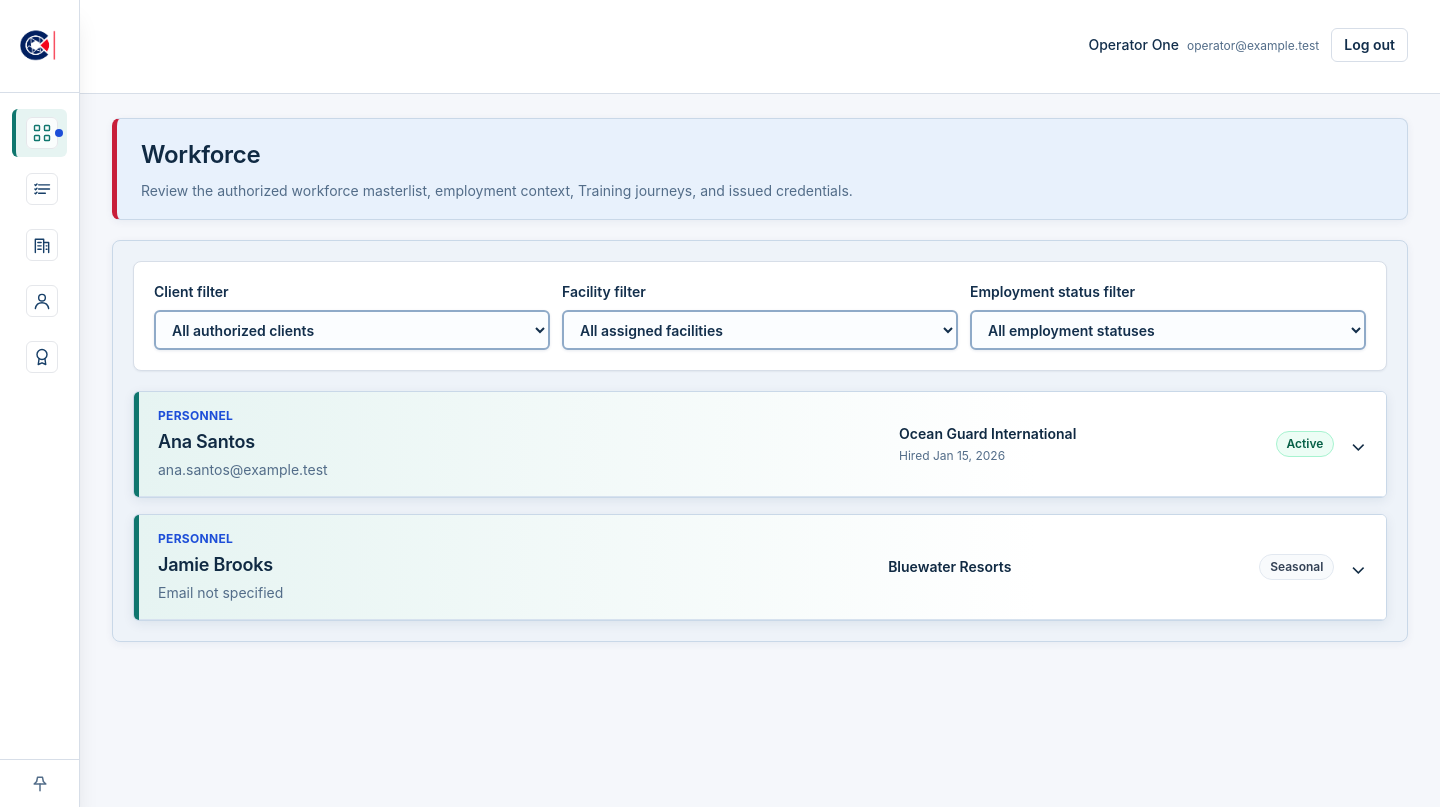
Test: Registration Personnel frontend › updates writable Personnel fields without sending client_id, user_id, or unsupported fields
Click the button "Ana Santos" at [196, 416], box [138,392,1386,497]
(page scrolled)
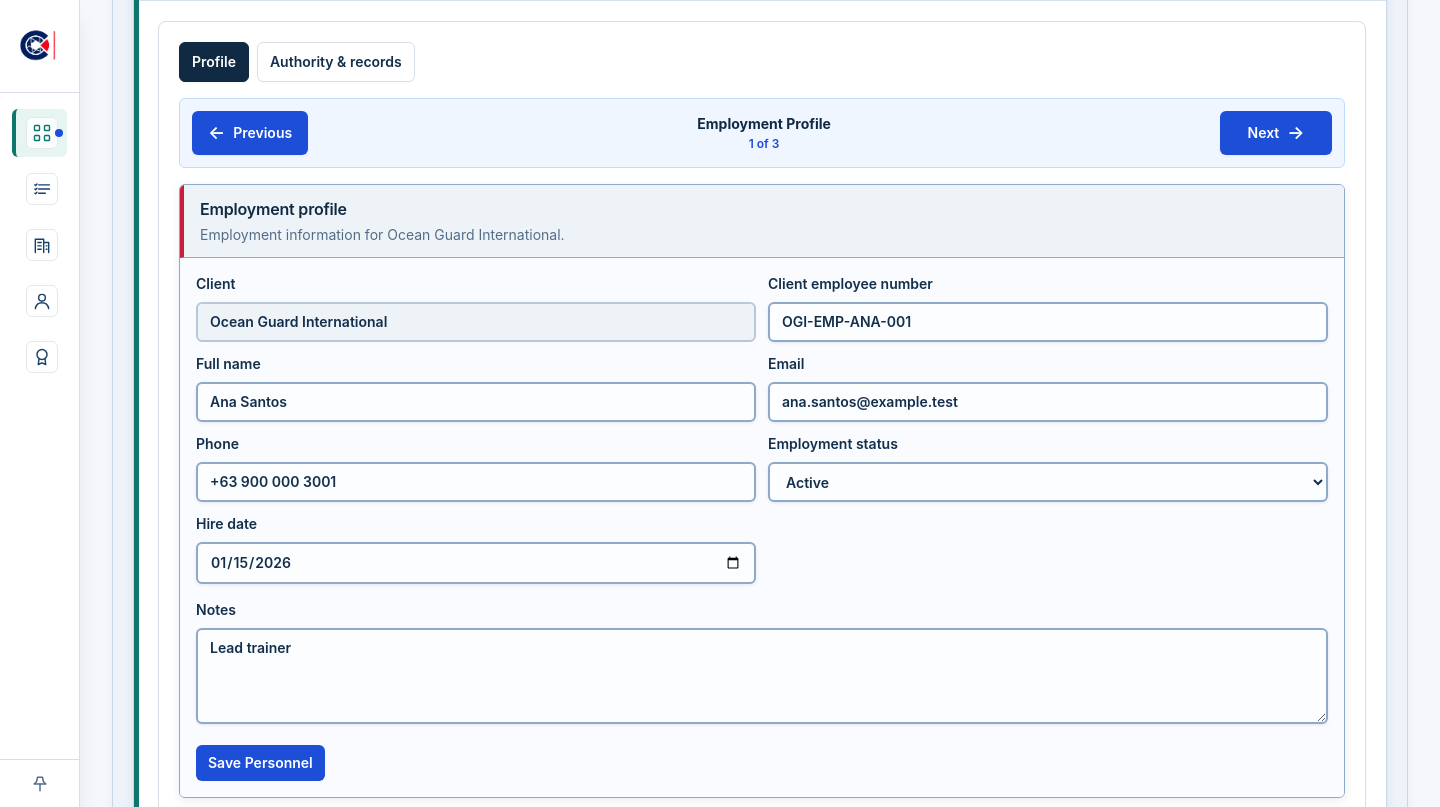
Replace the text in the field labelled "Full name" with "Ana Santos Updated" at [476, 402], box [196,382,756,422]
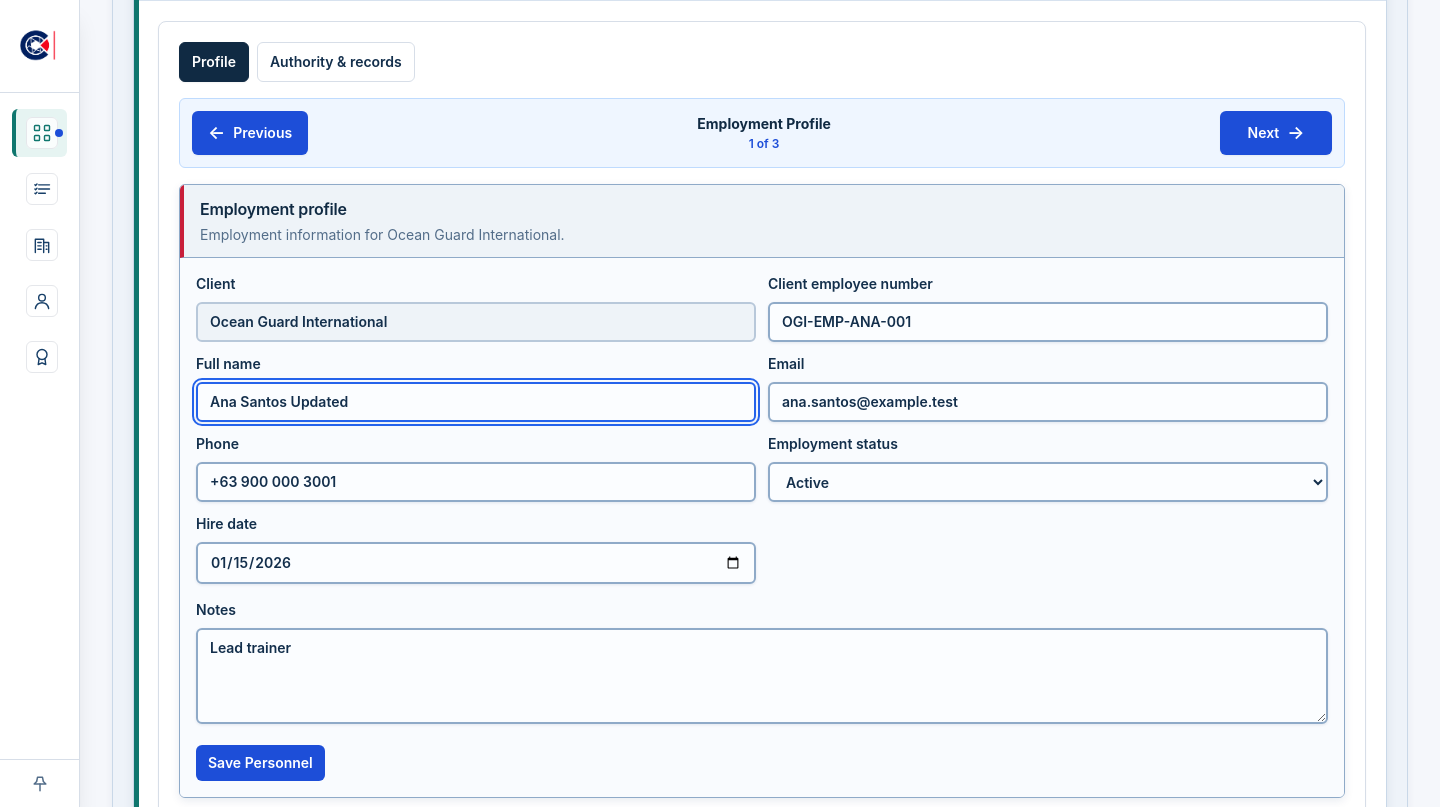
Select "Suspended" in the dropdown labelled "Employment status" at [1048, 482], box [768,462,1328,502]
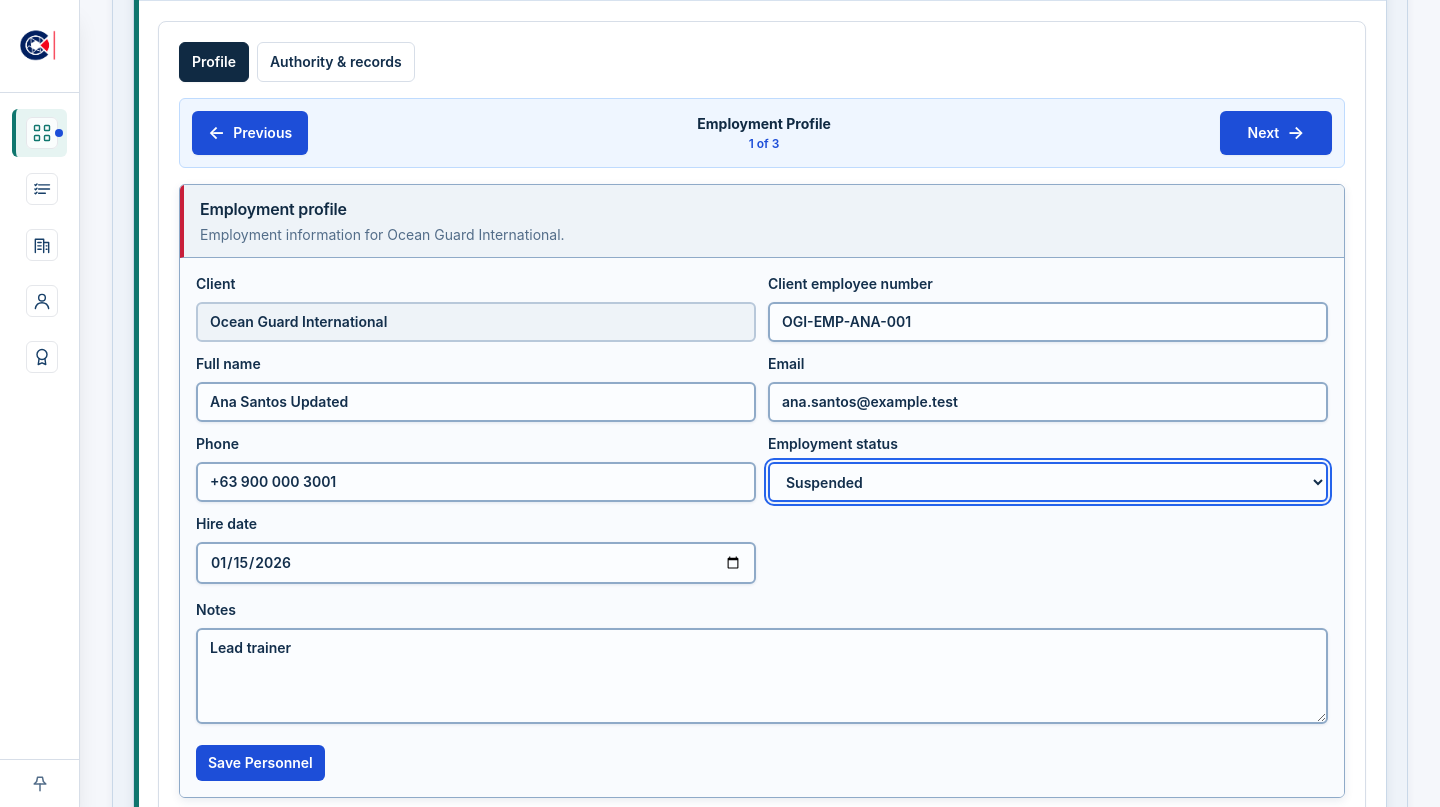
Replace the text in the text box labelled "Notes" with "Temporary suspension" at [762, 676], box [196,628,1328,724]
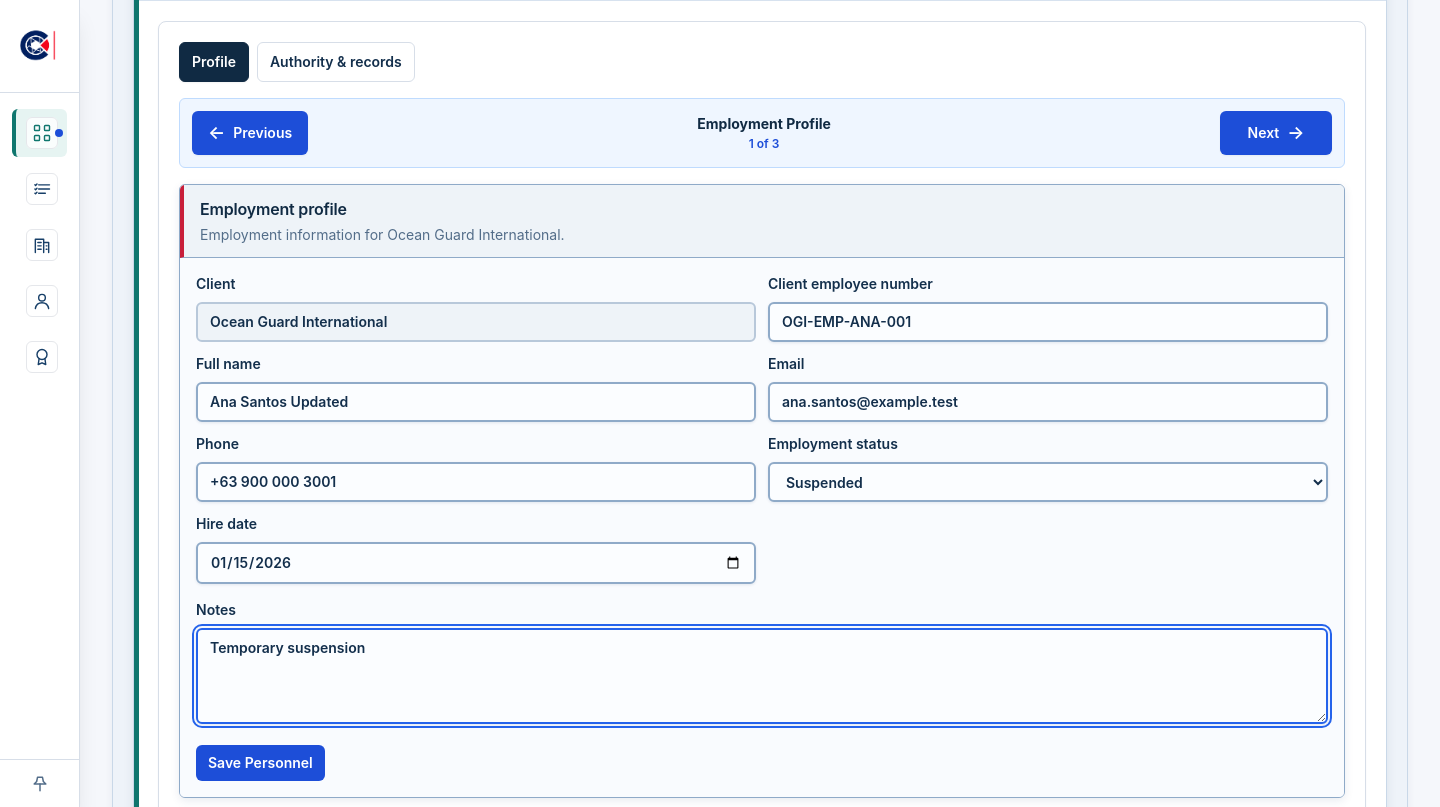
Click the button "Save Personnel" at [260, 763], box [196,745,325,781]
(page scrolled)
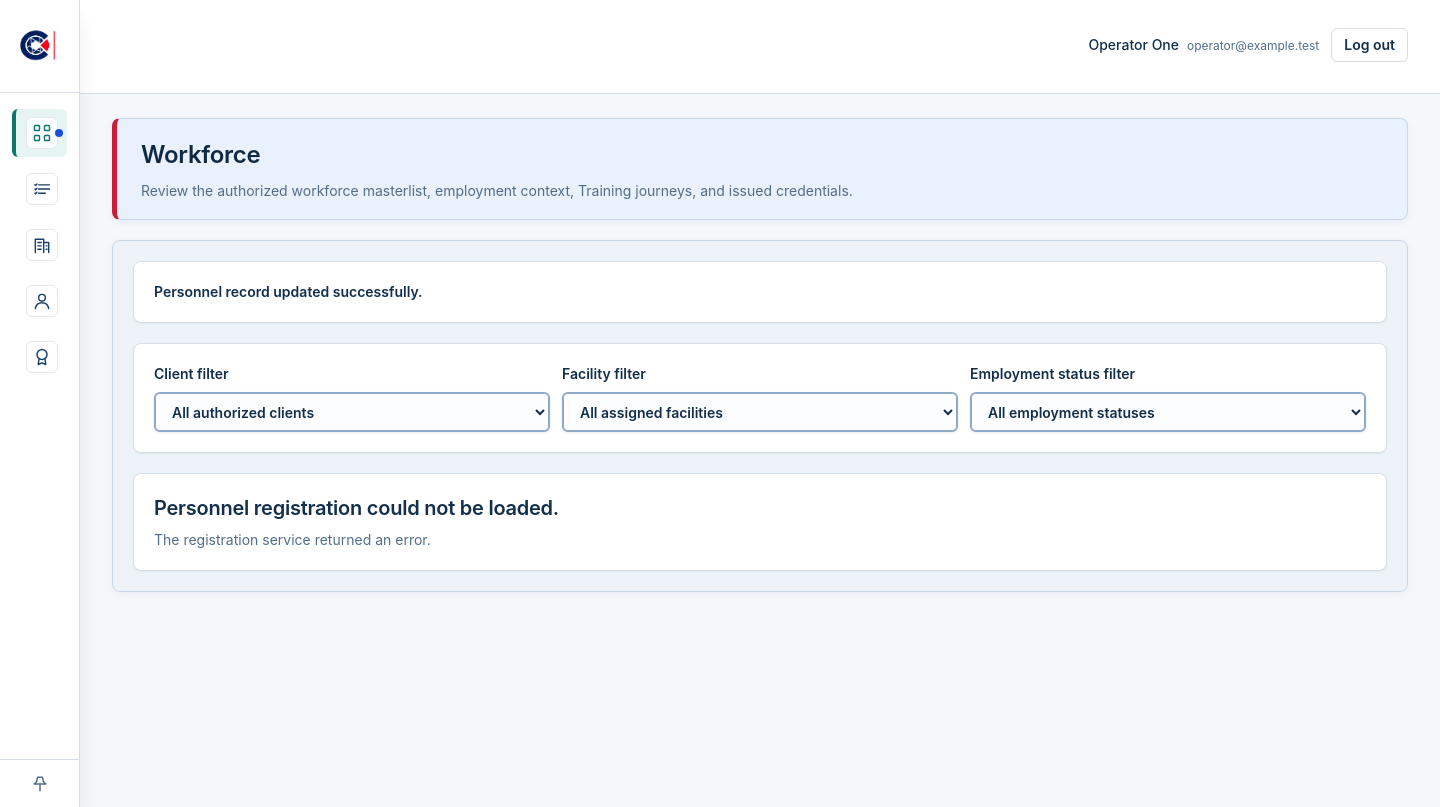
Expected: the text "Personnel record updated successfully." is shown, [154,283,423,300]
